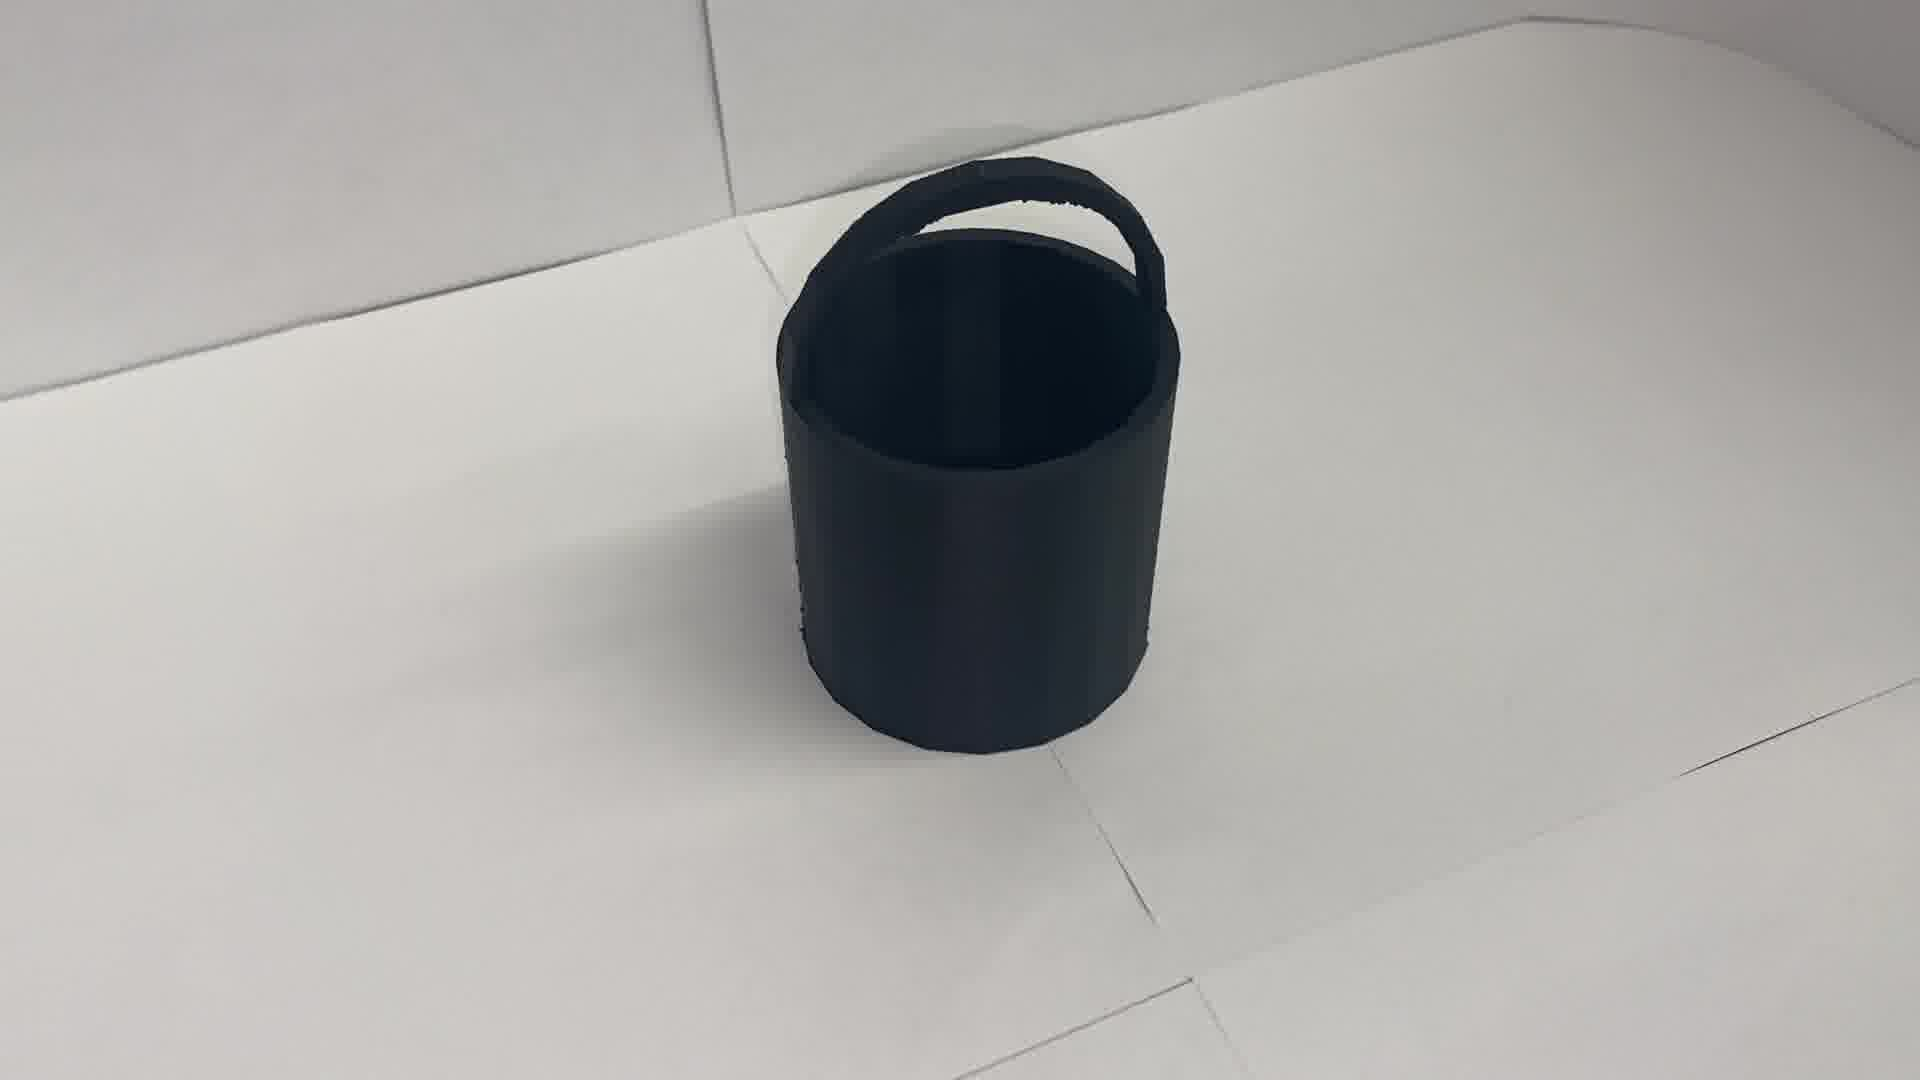bag: (764, 144, 1195, 767)
